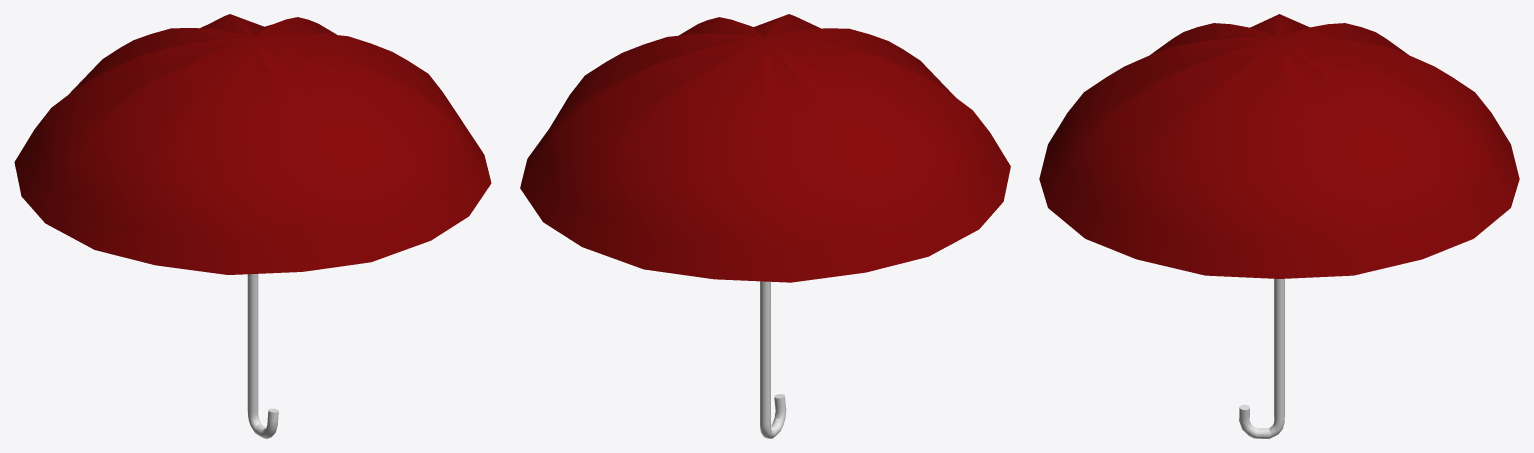
File: lalala.fbx
3 renders of one model, left to right at view 1: azimuth 30°, elevation 25°; view 2: azimuth 150°, elevation 25°; view 3: azimuth 270°, elevation 25°, orthographic. The views are drawn at different scales.
Visible parts, largest first — view 1: pSphere3; view 2: pSphere3; view 3: pSphere3.
Part boxes in pixels (x1=…): pSphere3: x1=14, y1=14, x2=491, y2=438; pSphere3: x1=520, y1=14, x2=1010, y2=438; pSphere3: x1=1039, y1=14, x2=1519, y2=438.
Size of the model in its own units: 0.1404 by 0.1268 by 0.1385.
